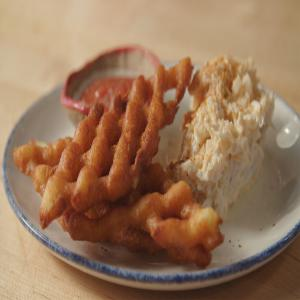fries: (21, 100, 227, 272)
